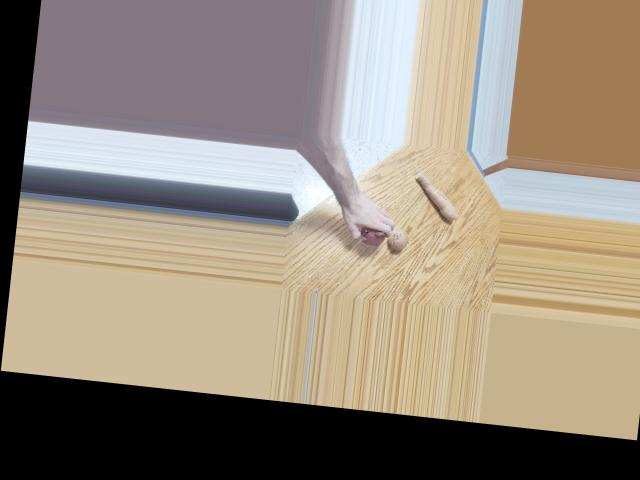onion: (363, 222, 387, 246)
